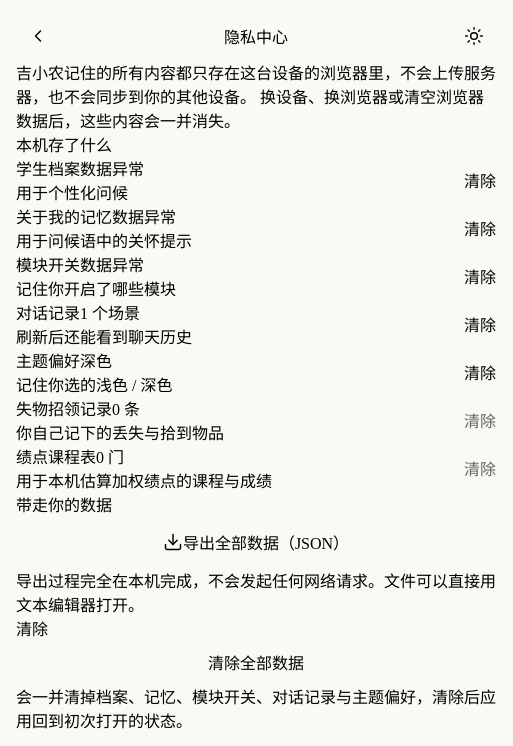
Test: PrivacyPage —— 全部清除 › 【取消确认】只点一次「清除全部数据」不删除任何数据
Step 1. Click the button "清除全部数据" → (256, 662), box [16, 640, 496, 684]
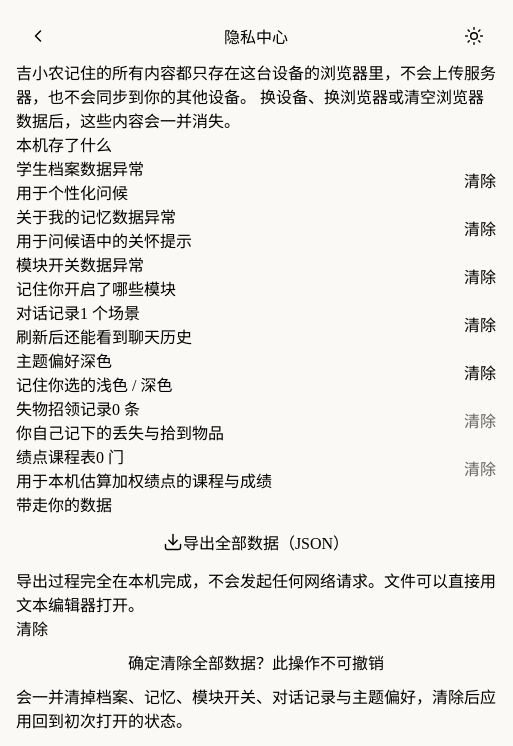
Now the button "确定清除全部数据？此操作不可撤销" is shown, box [16, 640, 496, 684]
